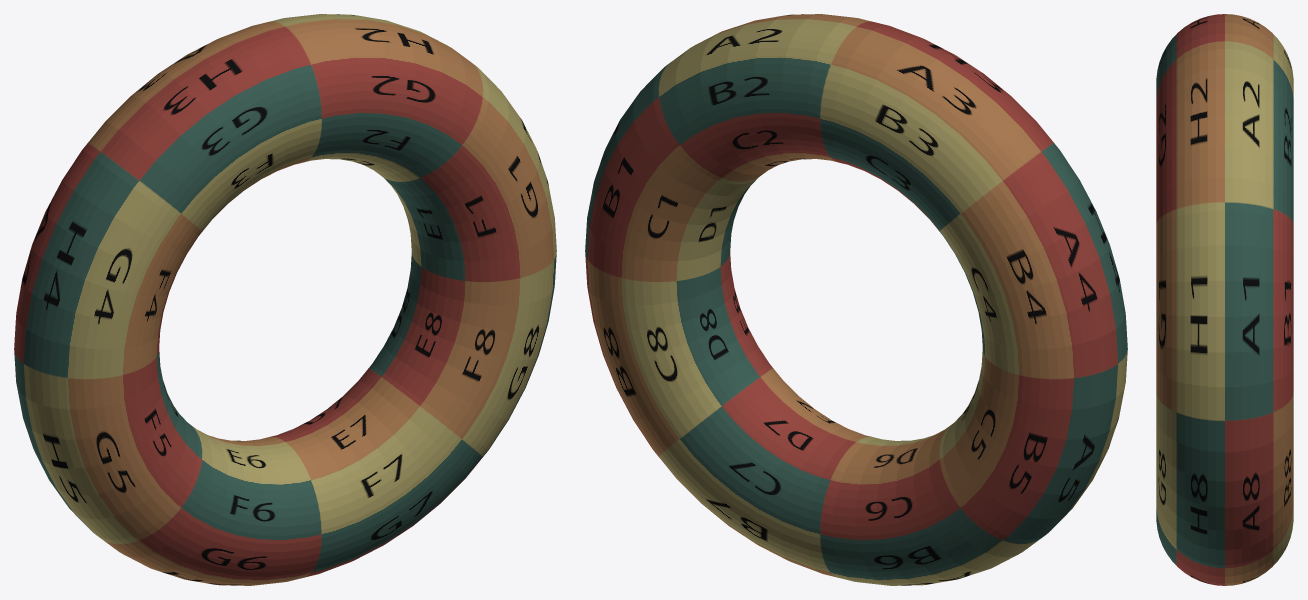
The model's file is texture_torus_R16_r17.glb.
3 renders of one model, left to right at view 1: azimuth 30°, elevation 25°; view 2: azimuth 150°, elevation 25°; view 3: azimuth 270°, elevation 25°, orthographic. The views are drawn at different scales.
Parts seen in each view (by area): view 1: world; view 2: world; view 3: world.
Boxes of the visible parts, left/top/right/bottom form: world: left=14, top=14, right=556, bottom=585; world: left=585, top=14, right=1127, bottom=585; world: left=1156, top=14, right=1293, bottom=585.
Bounding box in the file's own units: 27.2 × 27.15 × 6.52.
1 material, 1 textured.
